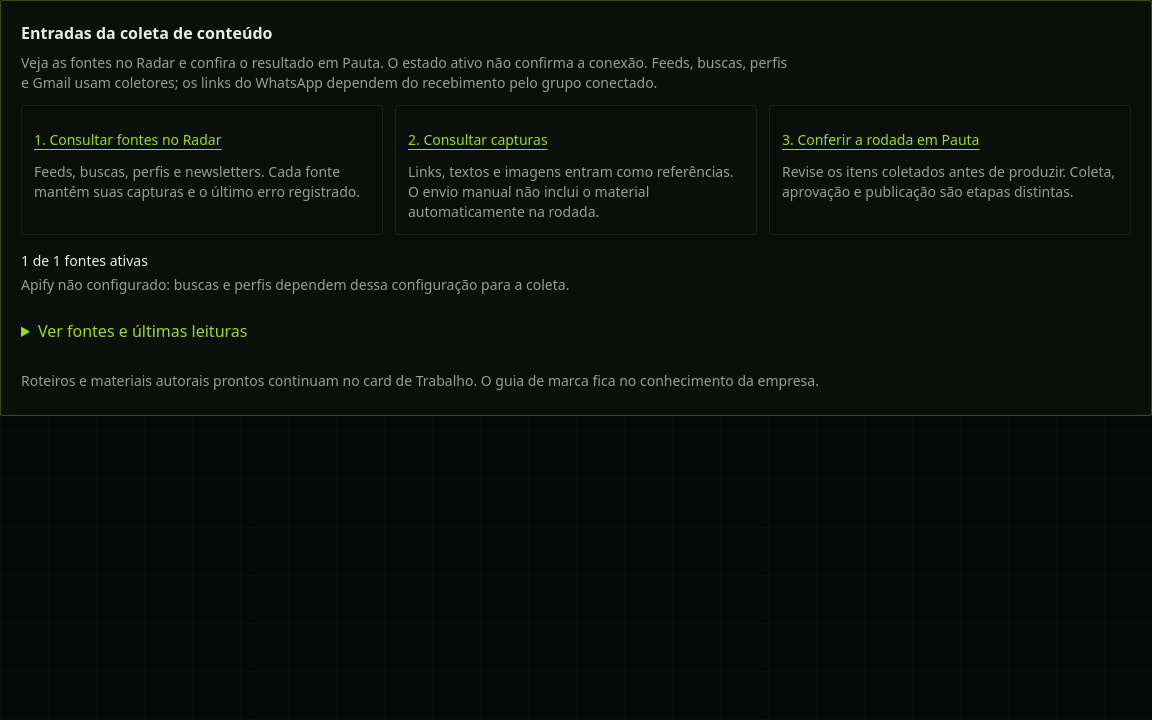
Test: entradas da coleta › não promete recebimento automático do WhatsApp
This screenshot has width=1152, height=720.
Click the heading "Ver fontes e últimas leituras": (143, 331) [38,320,247,342]
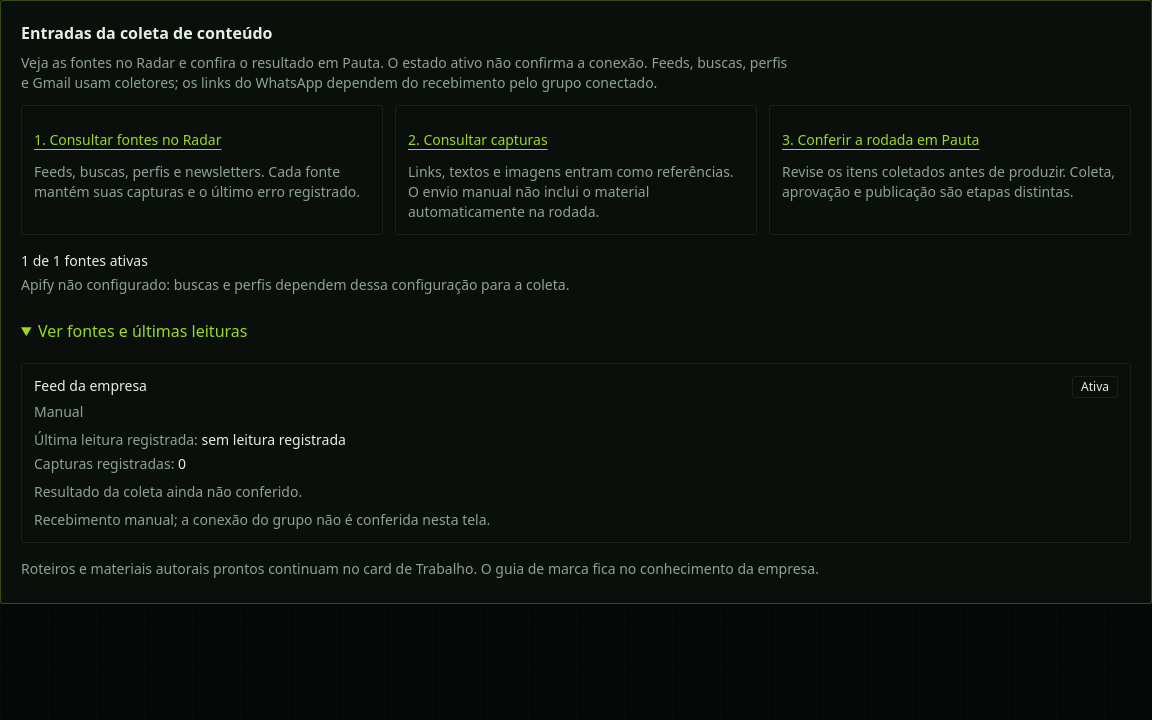
Now the text "conexão do grupo não é conferida" is shown, box [34,510,490,529]
